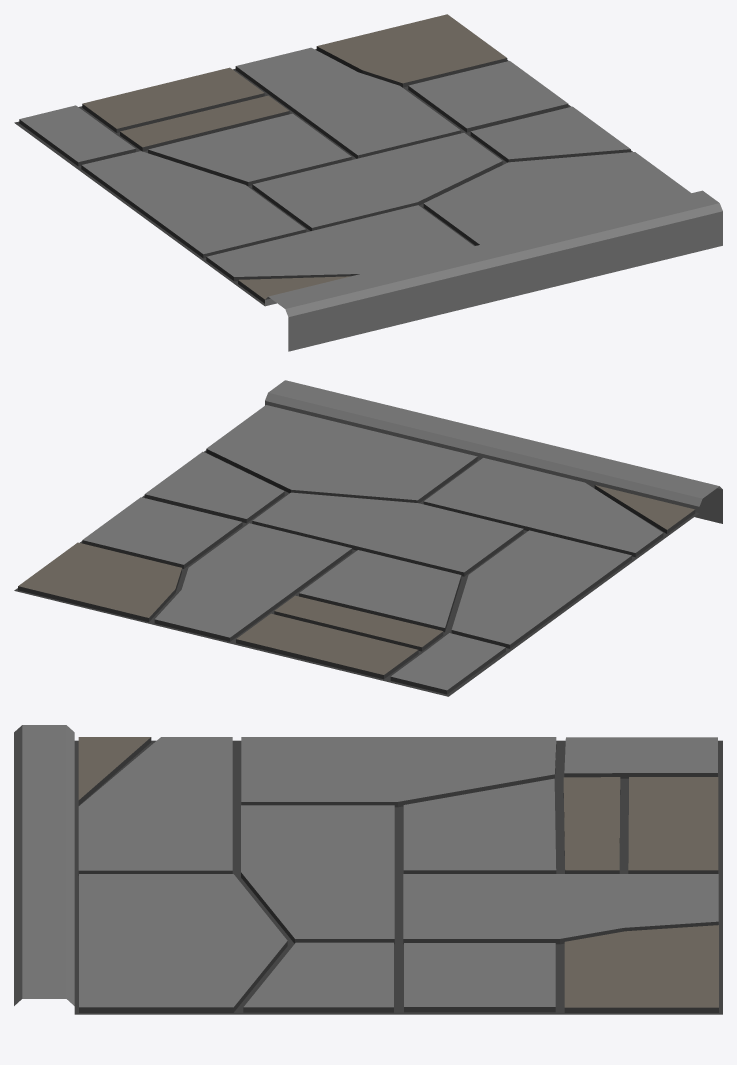
File: Walkway Modern A - 2.fbx
The picture shows the model from 3 angles, top to bottom: view 1: azimuth 30°, elevation 25°; view 2: azimuth 150°, elevation 25°; view 3: azimuth 270°, elevation 25°; orthographic projection. The views are drawn at different scales.
Visible parts, largest first — view 1: Walkway Modern A - 2.001; view 2: Walkway Modern A - 2.001; view 3: Walkway Modern A - 2.001.
Boxes of the visible parts, left/top/right/bottom form: Walkway Modern A - 2.001: left=14, top=14, right=722, bottom=351; Walkway Modern A - 2.001: left=14, top=380, right=722, bottom=696; Walkway Modern A - 2.001: left=14, top=725, right=722, bottom=1014.
Size of the model in its own units: 305 by 333 by 27.01.
